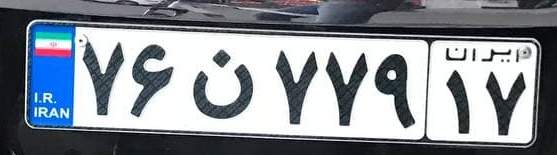character: (184, 43, 263, 124), (125, 33, 179, 121), (270, 41, 322, 128), (373, 47, 421, 136), (324, 43, 372, 131), (81, 34, 126, 118), (483, 65, 530, 139), (444, 64, 480, 139)
